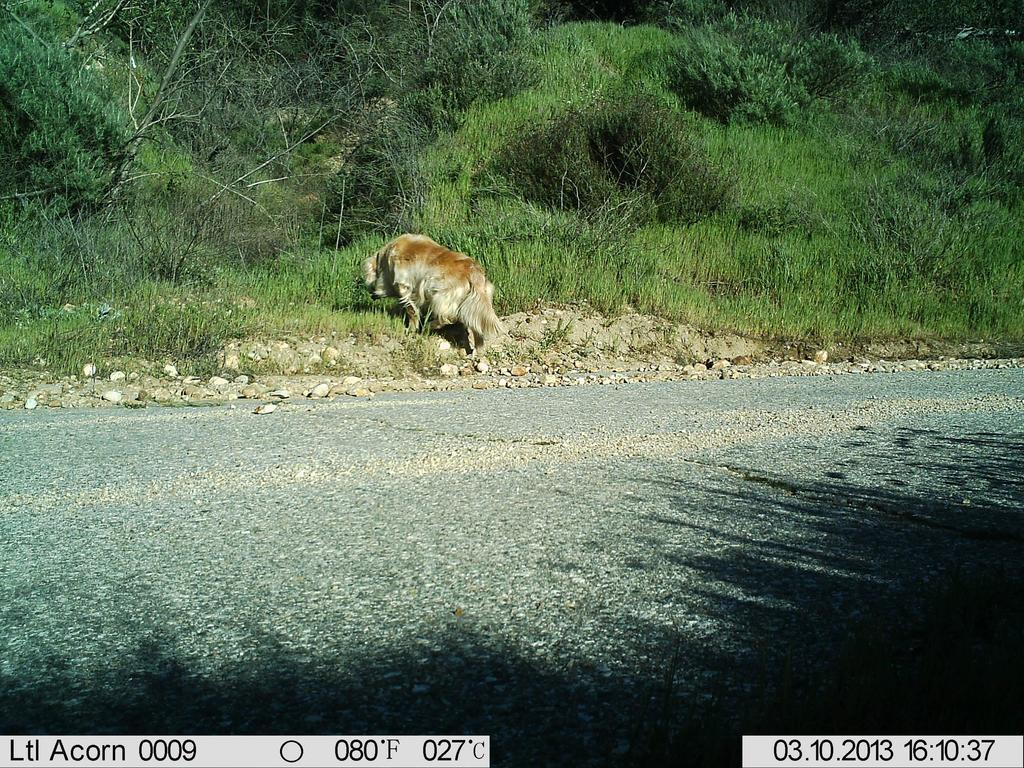dog: (353, 228, 513, 363)
